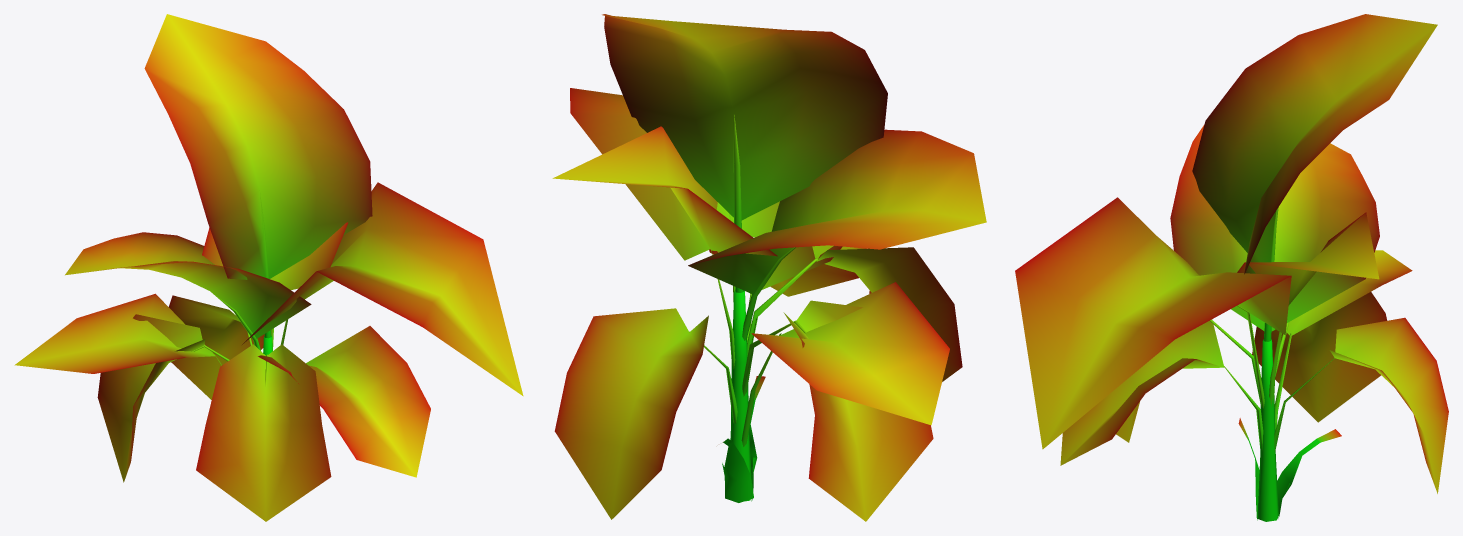
Rendered from Cat Palm_LOD2_Var2_tjejafeia.fbx.
3 renders of one model, left to right at view 1: azimuth 30°, elevation 25°; view 2: azimuth 150°, elevation 25°; view 3: azimuth 270°, elevation 25°, orthographic. The views are drawn at different scales.
Parts seen in each view (by area): view 1: _3cec_Var2_LOD2; view 2: _3cec_Var2_LOD2; view 3: _3cec_Var2_LOD2.
Boxes of the visible parts, x1,y1,x2,y2 form: _3cec_Var2_LOD2: (14, 14, 523, 521); _3cec_Var2_LOD2: (552, 14, 986, 521); _3cec_Var2_LOD2: (1015, 14, 1448, 521).
Size of the model in its own units: 103 by 114 by 93.21.
